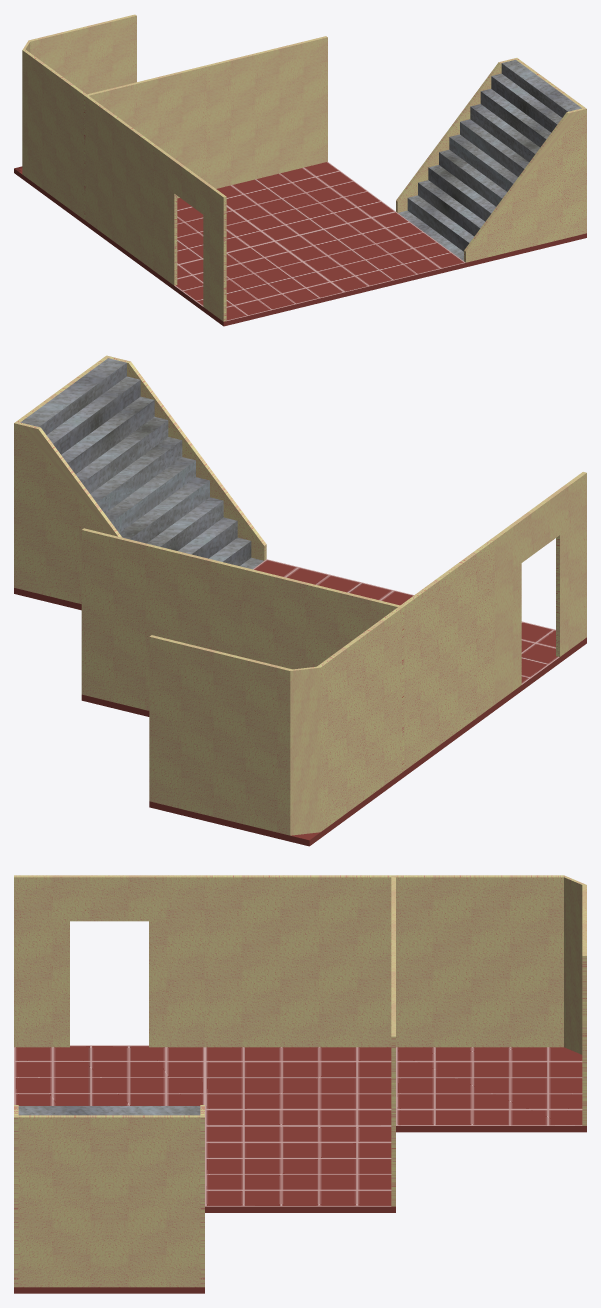
The model's file is wallTiles.glb.
3 renders of one model, top to bottom at view 1: azimuth 30°, elevation 25°; view 2: azimuth 150°, elevation 25°; view 3: azimuth 270°, elevation 25°, orthographic. The views are drawn at different scales.
Visible parts, largest first — view 1: tile3-floor.002, tile2-floor.002, tile2-floor.001, tile3-floor.003, tile2-floor.003, tile-empty; view 2: tile2-floor.003, tile3-floor.002, tile2-floor.001, tile2-floor.002, tile3-floor.003, tile-empty; view 3: tile2-floor.003, tile2-floor.001, tile3-floor.002, tile3-floor.003, tile2-floor.002.
Part boxes in pixels (<box>): tile3-floor.002: <box>396,58,586,267</box>; tile2-floor.002: <box>205,36,395,240</box>; tile2-floor.001: <box>84,65,274,274</box>; tile3-floor.003: <box>153,145,344,326</box>; tile2-floor.003: <box>14,14,136,223</box>; tile-empty: <box>275,211,465,296</box>; tile2-floor.003: <box>149,607,401,846</box>; tile3-floor.002: <box>14,355,266,610</box>; tile2-floor.001: <box>242,539,494,778</box>; tile2-floor.002: <box>81,528,243,716</box>; tile3-floor.003: <box>491,472,586,710</box>; tile-empty: <box>253,559,413,605</box>; tile2-floor.003: <box>396,875,586,1132</box>; tile2-floor.001: <box>205,875,395,1125</box>; tile3-floor.002: <box>14,1105,204,1293</box>; tile3-floor.003: <box>14,875,204,1105</box>; tile2-floor.002: <box>205,956,395,1212</box>.
Size of the model in its own units: 6 by 2.04 by 6.
3 materials, 3 textured.
